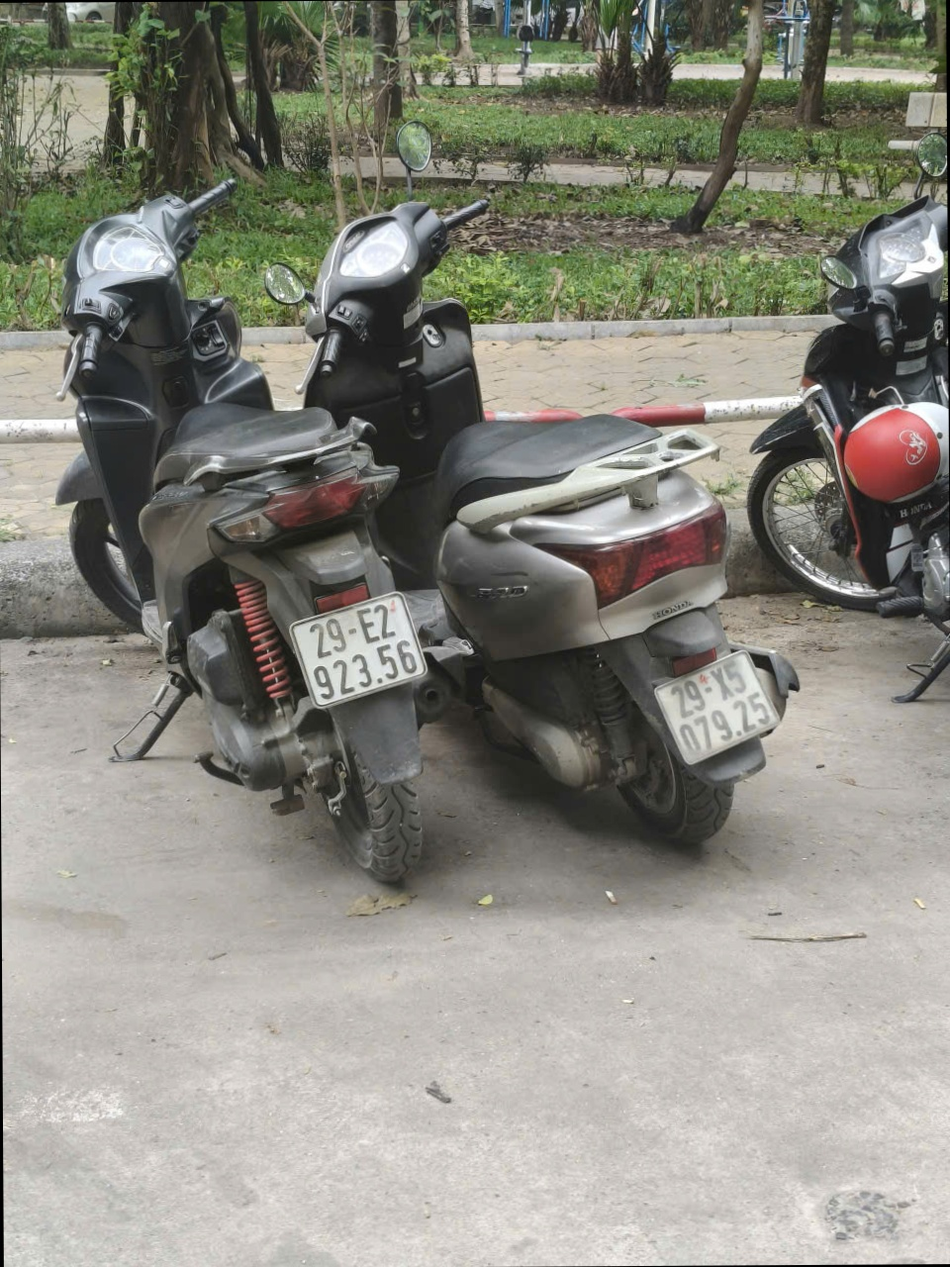plate: (261, 454, 353, 485)
